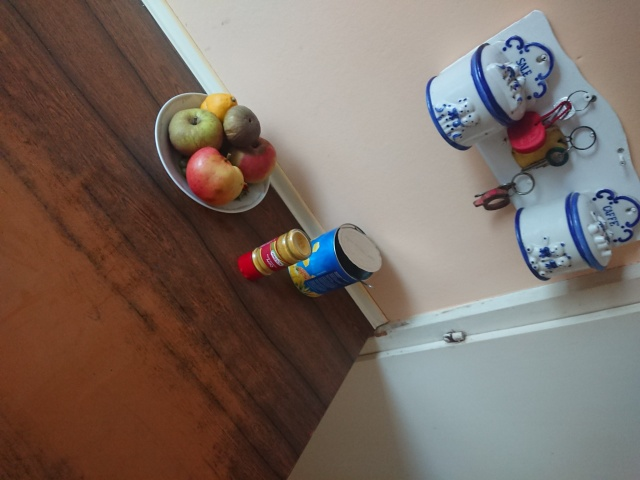Kotanyi Curry Spices Mix 70g: (236, 226, 315, 283)
